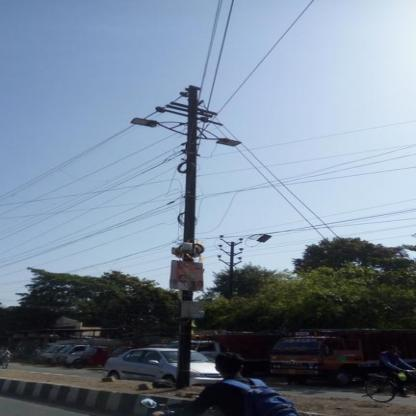Electrical Pole: (129, 80, 255, 388)
